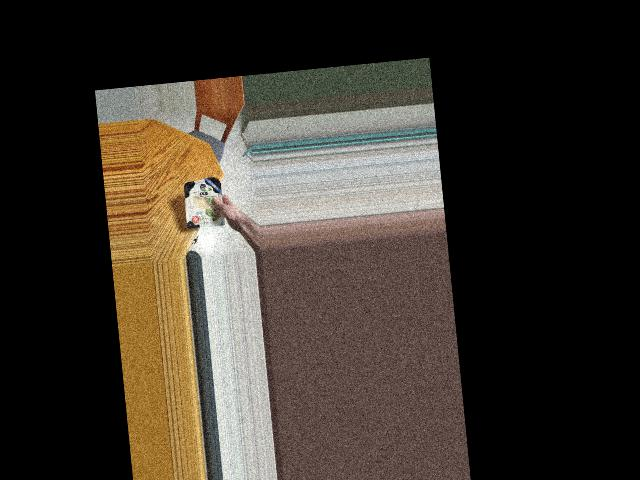cheese: (183, 176, 228, 231)
